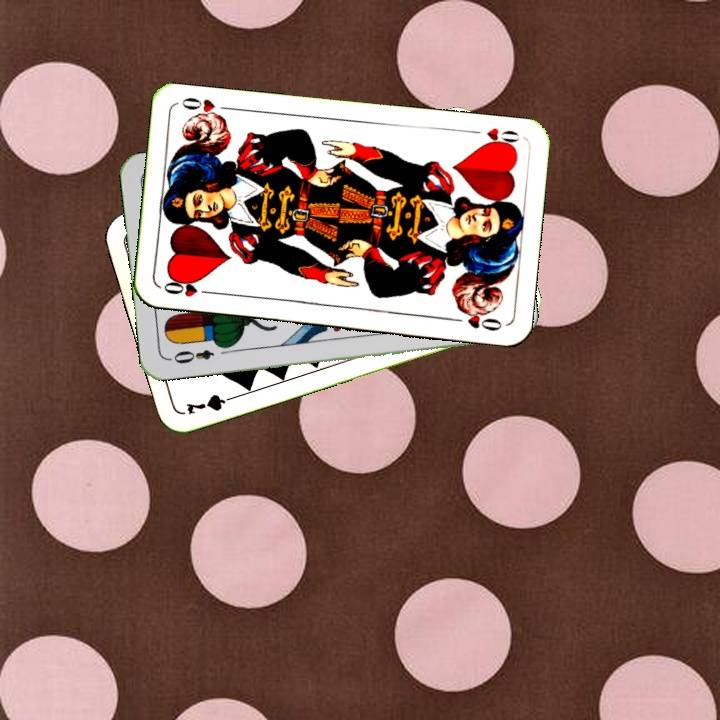EO: (165, 346, 217, 367)
G7: (181, 390, 241, 417)
HO: (465, 124, 523, 151), (159, 277, 217, 300)
